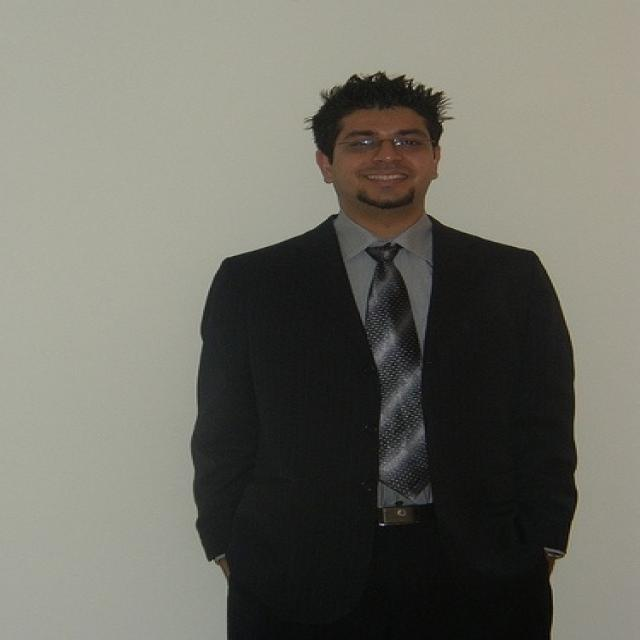piel: (319, 108, 436, 242)
